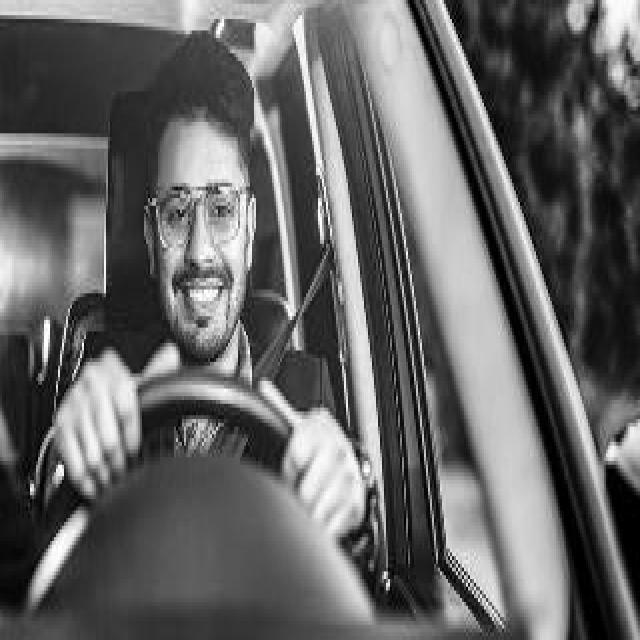Focused: (151, 120, 257, 368)
